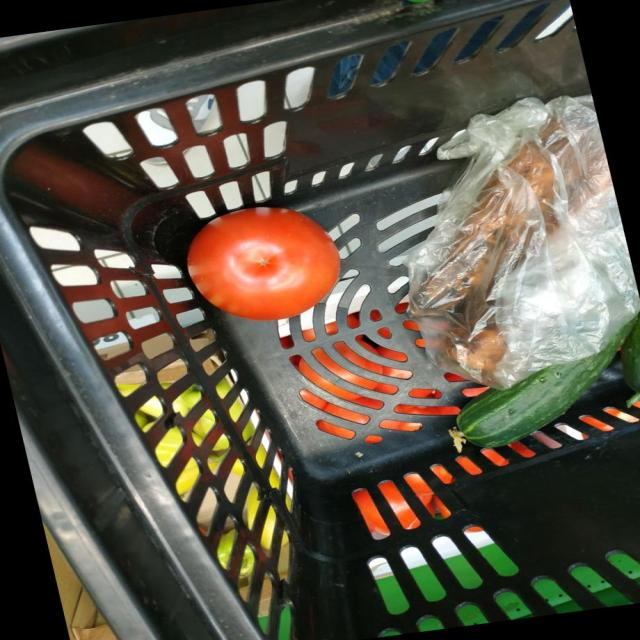Carrot: (508, 143, 555, 213), (454, 322, 508, 375), (453, 259, 496, 298), (489, 216, 501, 230)
Cucumber: (450, 319, 636, 452), (621, 312, 640, 406)
Tomatoes: (187, 206, 341, 321)
